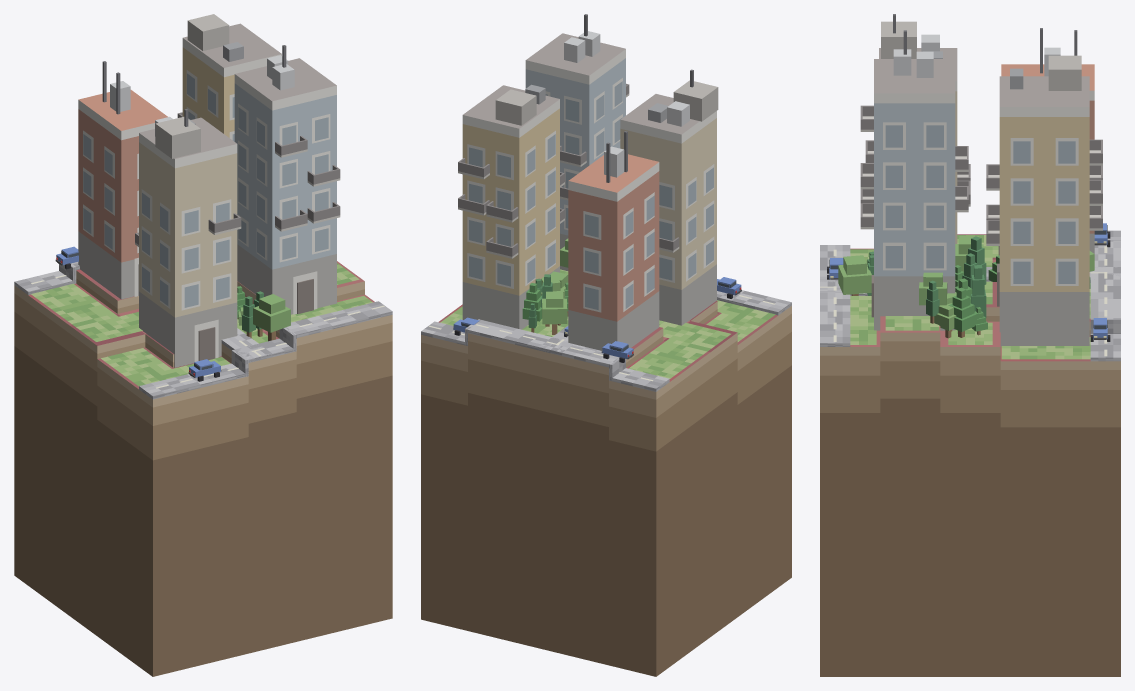
File: block_24_permeable_30.glb
The picture shows the model from 3 angles, left to right: view 1: azimuth 30°, elevation 25°; view 2: azimuth 150°, elevation 25°; view 3: azimuth 270°, elevation 25°; orthographic projection. The views are drawn at different scales.
Visible parts, largest first — view 1: Patch_UpperRight_b24_PP, ResidBldgs_b24_PP, Green_UpperRight_b24_PP, Roads_UpperRight_b24_PP, URTree_24_17_PP; view 2: Patch_UpperRight_b24_PP, ResidBldgs_b24_PP, Roads_UpperRight_b24_PP, Green_UpperRight_b24_PP, URTree_24_0_PP; view 3: Patch_UpperRight_b24_PP, ResidBldgs_b24_PP, Roads_UpperRight_b24_PP, Green_UpperRight_b24_PP, URTree_24_17_PP, URTree_24_28_PP, URTree_24_25_PP, URTree_24_19_PP, URTree_24_20_PP.
Part boxes in pixels (x1=…): Patch_UpperRight_b24_PP: x1=14, y1=261, x2=392, y2=676; ResidBldgs_b24_PP: x1=78, y1=14, x2=340, y2=367; Green_UpperRight_b24_PP: x1=31, y1=263, x2=372, y2=386; Roads_UpperRight_b24_PP: x1=14, y1=262, x2=392, y2=399; URTree_24_17_PP: x1=253, y1=294, x2=290, y2=341; Patch_UpperRight_b24_PP: x1=421, y1=301, x2=791, y2=676; ResidBldgs_b24_PP: x1=458, y1=14, x2=718, y2=350; Roads_UpperRight_b24_PP: x1=421, y1=290, x2=791, y2=391; Green_UpperRight_b24_PP: x1=440, y1=269, x2=775, y2=378; URTree_24_0_PP: x1=542, y1=291, x2=567, y2=334; Patch_UpperRight_b24_PP: x1=820, y1=234, x2=1120, y2=676; ResidBldgs_b24_PP: x1=860, y1=14, x2=1102, y2=346; Roads_UpperRight_b24_PP: x1=820, y1=230, x2=1120, y2=361; Green_UpperRight_b24_PP: x1=850, y1=235, x2=1090, y2=359; URTree_24_17_PP: x1=838, y1=255, x2=871, y2=295; URTree_24_28_PP: x1=948, y1=287, x2=978, y2=337; URTree_24_25_PP: x1=919, y1=272, x2=947, y2=305; URTree_24_19_PP: x1=971, y1=265, x2=986, y2=317; URTree_24_20_PP: x1=934, y1=303, x2=956, y2=338.
Size of the model in its own units: 9.5 by 21.24 by 9.5.
